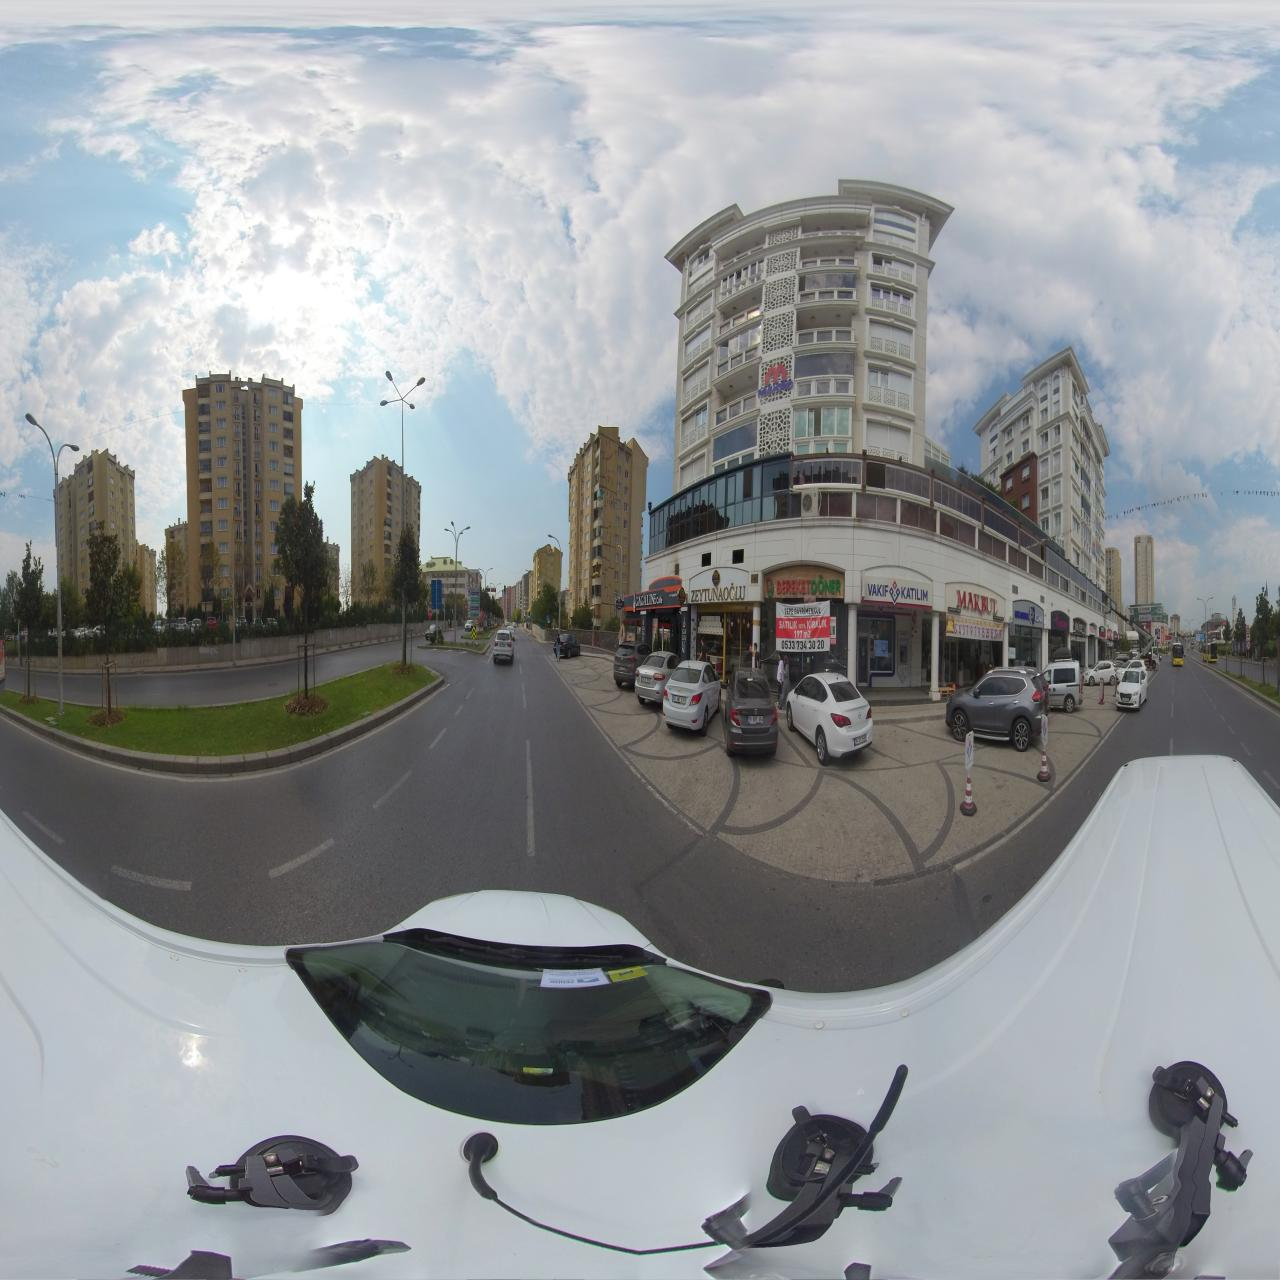SignStore: (764, 565, 844, 599), (945, 583, 1006, 622), (865, 576, 933, 610), (689, 567, 748, 602), (631, 590, 670, 612), (1013, 601, 1043, 628), (1051, 611, 1069, 632), (1073, 619, 1085, 635)
